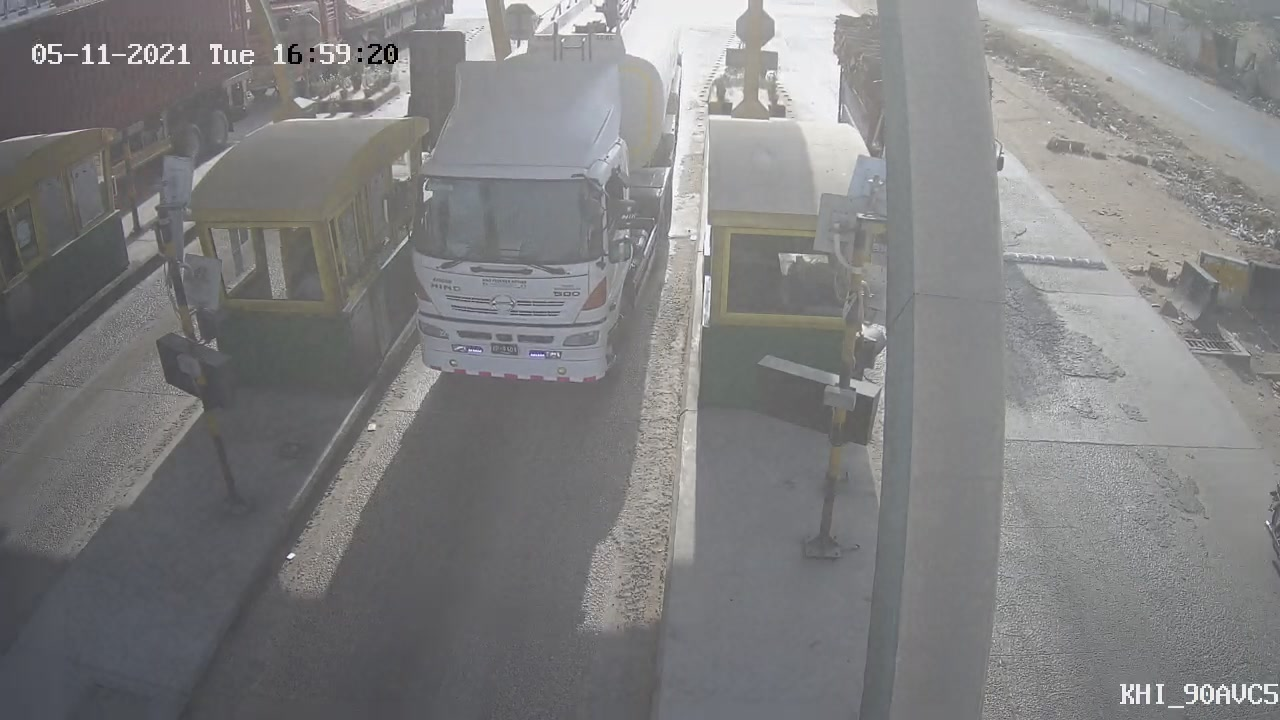F6: (366, 4, 704, 414)
